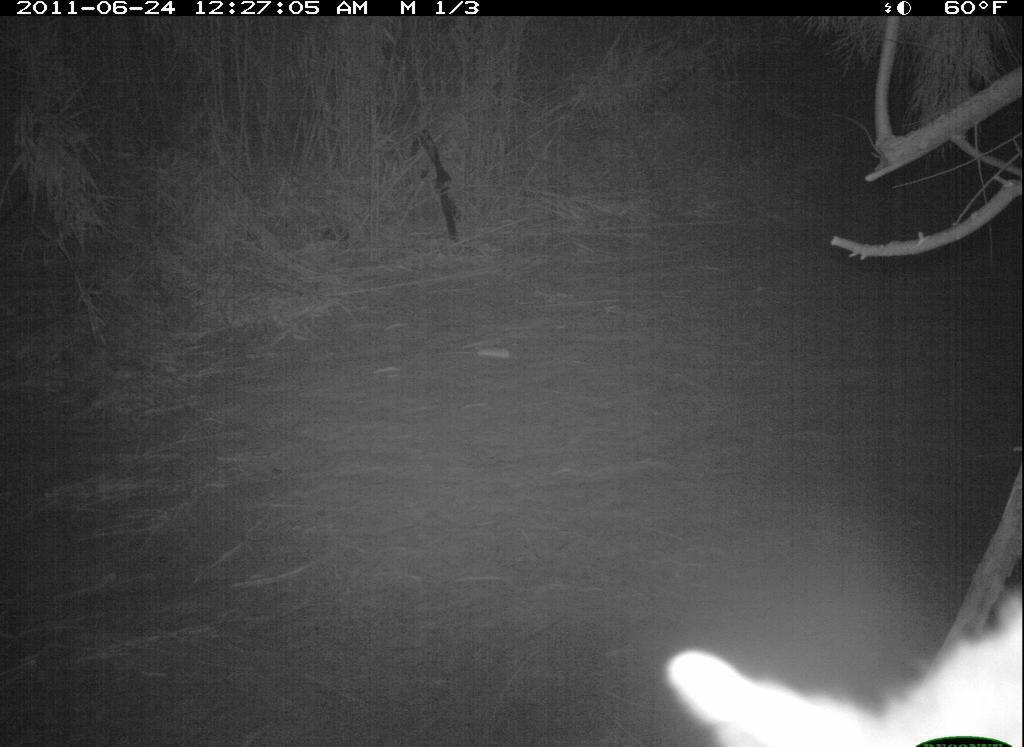raccoon: (666, 596, 1023, 747)
